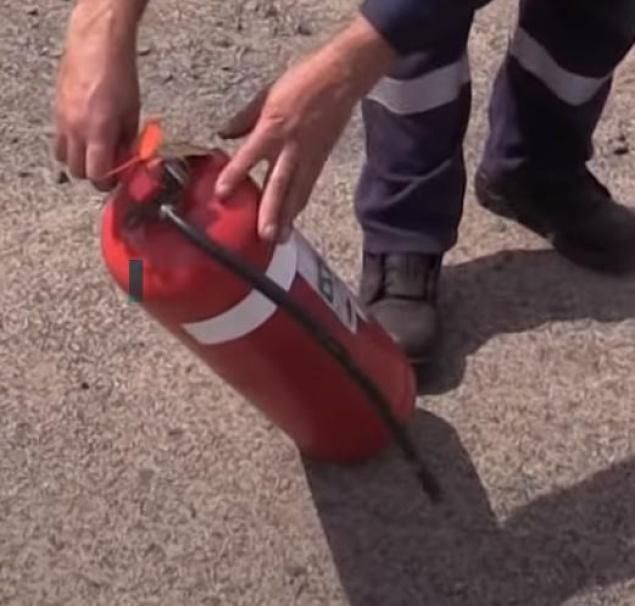APAR: (96, 140, 418, 467)
